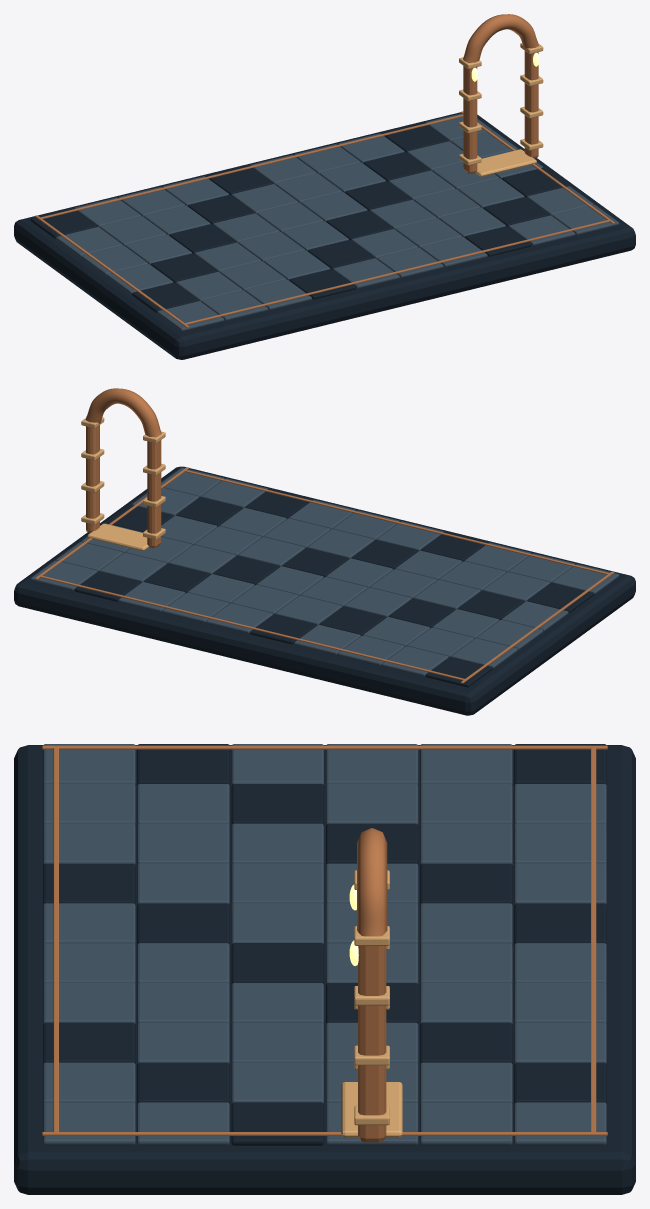
Rendered from R01-architecture.glb.
3 renders of one model, top to bottom at view 1: azimuth 30°, elevation 25°; view 2: azimuth 150°, elevation 25°; view 3: azimuth 270°, elevation 25°, orthographic. The views are drawn at different scales.
Visible parts, largest first — view 1: R01_landing_foundation, R01_workshop_crown, R01_workshop_jamb, R01_workshop_jamb.001, R01_floor_edge.003, R01_floor_edge.002, R01_floor_02_01, R01_floor_07_02, R01_floor_03_04, R01_floor_01_02, R01_floor_04_02, R01_floor_05_04 (+55 smaller); view 2: R01_landing_foundation, R01_workshop_crown, R01_workshop_jamb, R01_workshop_jamb.001, R01_floor_edge.002, R01_floor_edge.003, R01_floor_05_03, R01_floor_01_04, R01_floor_04_01, R01_floor_06_00, R01_floor_01_00, R01_floor_01_01 (+55 smaller); view 3: R01_landing_foundation, R01_workshop_jamb.001, R01_floor_03_03, R01_floor_03_01, R01_floor_03_04, R01_floor_02_01, R01_floor_02_04, R01_floor_08_01, R01_floor_08_03, R01_floor_08_04, R01_floor_02_03, R01_floor_07_03 (+56 smaller).
Part boxes in pixels (<box>): R01_landing_foundation: <box>14,112,635,359</box>; R01_workshop_crown: <box>463,14,538,62</box>; R01_workshop_jamb: <box>463,66,477,173</box>; R01_workshop_jamb.001: <box>524,51,538,158</box>; R01_floor_edge.003: <box>185,219,609,324</box>; R01_floor_edge.002: <box>40,114,463,218</box>; R01_floor_02_01: <box>144,205,210,235</box>; R01_floor_07_02: <box>388,170,455,200</box>; R01_floor_03_04: <box>263,250,330,280</box>; R01_floor_01_02: <box>125,234,191,264</box>; R01_floor_04_02: <box>257,202,323,232</box>; R01_floor_05_04: <box>351,229,418,258</box>; R01_landing_foundation: <box>14,466,635,715</box>; R01_workshop_crown: <box>85,388,161,437</box>; R01_workshop_jamb: <box>147,440,161,548</box>; R01_workshop_jamb.001: <box>86,425,99,532</box>; R01_floor_edge.002: <box>40,575,464,680</box>; R01_floor_edge.003: <box>185,470,609,574</box>; R01_floor_05_03: <box>282,547,348,577</box>; R01_floor_01_04: <box>483,572,549,601</box>; R01_floor_04_01: <box>275,595,342,625</box>; R01_floor_06_00: <box>162,592,229,622</box>; R01_floor_01_00: <box>382,646,448,676</box>; R01_floor_01_01: <box>407,627,473,657</box>; R01_landing_foundation: <box>14,745,635,1194</box>; R01_workshop_jamb.001: <box>358,946,386,1142</box>; R01_floor_03_03: <box>231,863,323,904</box>; R01_floor_03_01: <box>420,863,512,904</box>; R01_floor_03_04: <box>137,863,229,904</box>; R01_floor_02_01: <box>420,823,512,864</box>; R01_floor_02_04: <box>137,823,229,864</box>; R01_floor_08_01: <box>420,1062,512,1103</box>; R01_floor_08_03: <box>231,1062,323,1103</box>; R01_floor_08_04: <box>137,1062,229,1103</box>; R01_floor_02_03: <box>231,823,323,864</box>; R01_floor_07_03: <box>231,1022,323,1063</box>.
Size of the model in its own units: 10.5 by 3.84 by 6.6.
